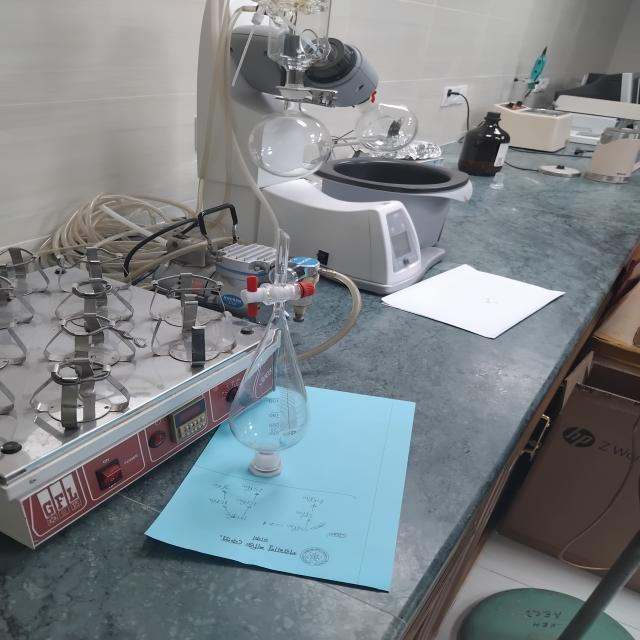Separating_Funnel: (196, 212, 357, 498)
